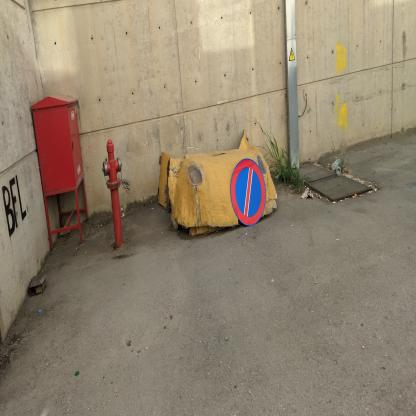No Waiting: (231, 159, 267, 227)
